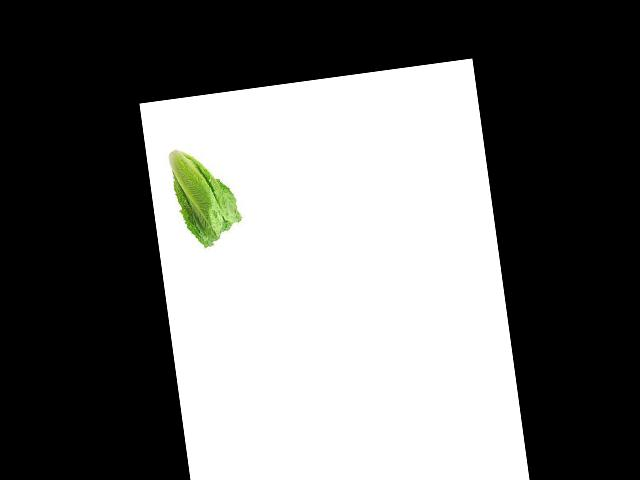lettuce: (148, 150, 253, 269)
